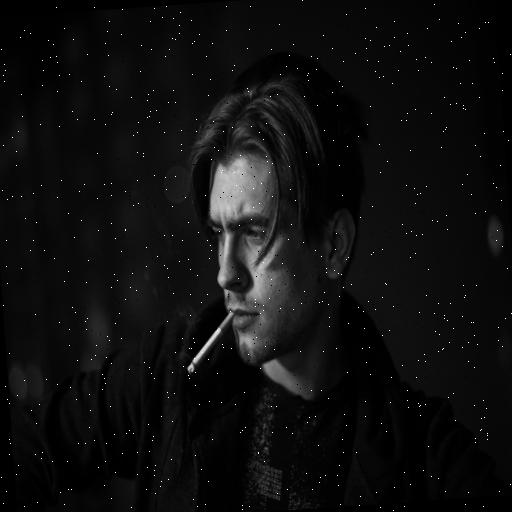terdeteksi merokok: (161, 186, 276, 396)
